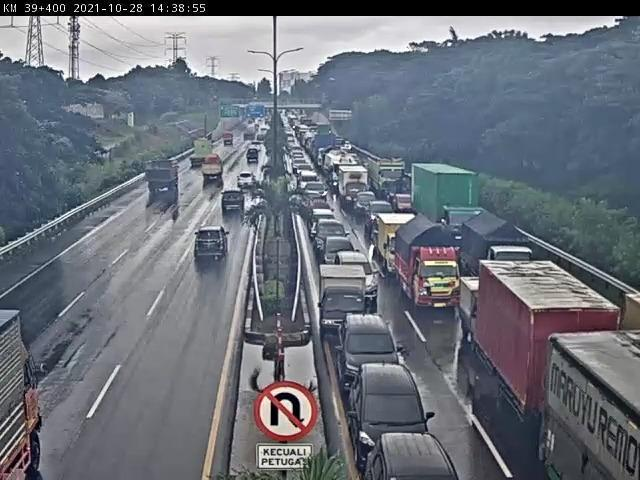car: (350, 366, 437, 465), (336, 315, 400, 399), (365, 434, 462, 480), (337, 253, 382, 303), (321, 237, 362, 278), (313, 220, 351, 259), (195, 224, 231, 262), (368, 200, 396, 232), (311, 208, 336, 238), (302, 190, 325, 222), (220, 193, 246, 217), (298, 170, 320, 197), (357, 193, 378, 218), (236, 174, 259, 193), (251, 143, 263, 156), (255, 134, 267, 145)
truck: (480, 260, 627, 447), (412, 162, 486, 253), (395, 217, 464, 314), (458, 207, 528, 285), (460, 275, 523, 352), (318, 262, 370, 338), (378, 213, 421, 278), (143, 159, 179, 196), (340, 166, 370, 208), (187, 137, 216, 171), (199, 156, 224, 184), (247, 150, 259, 168), (221, 133, 234, 147), (244, 126, 256, 141)
